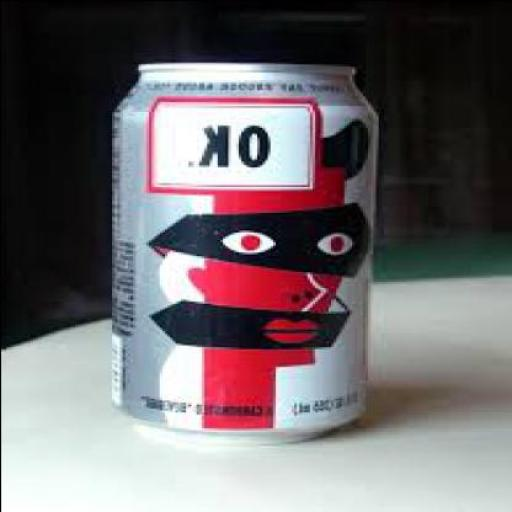metal: (108, 62, 380, 440)
